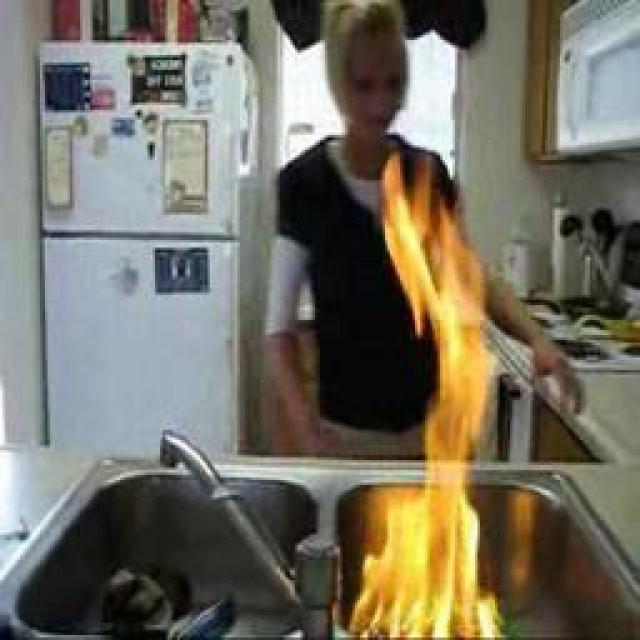Fire: (365, 158, 491, 640)
